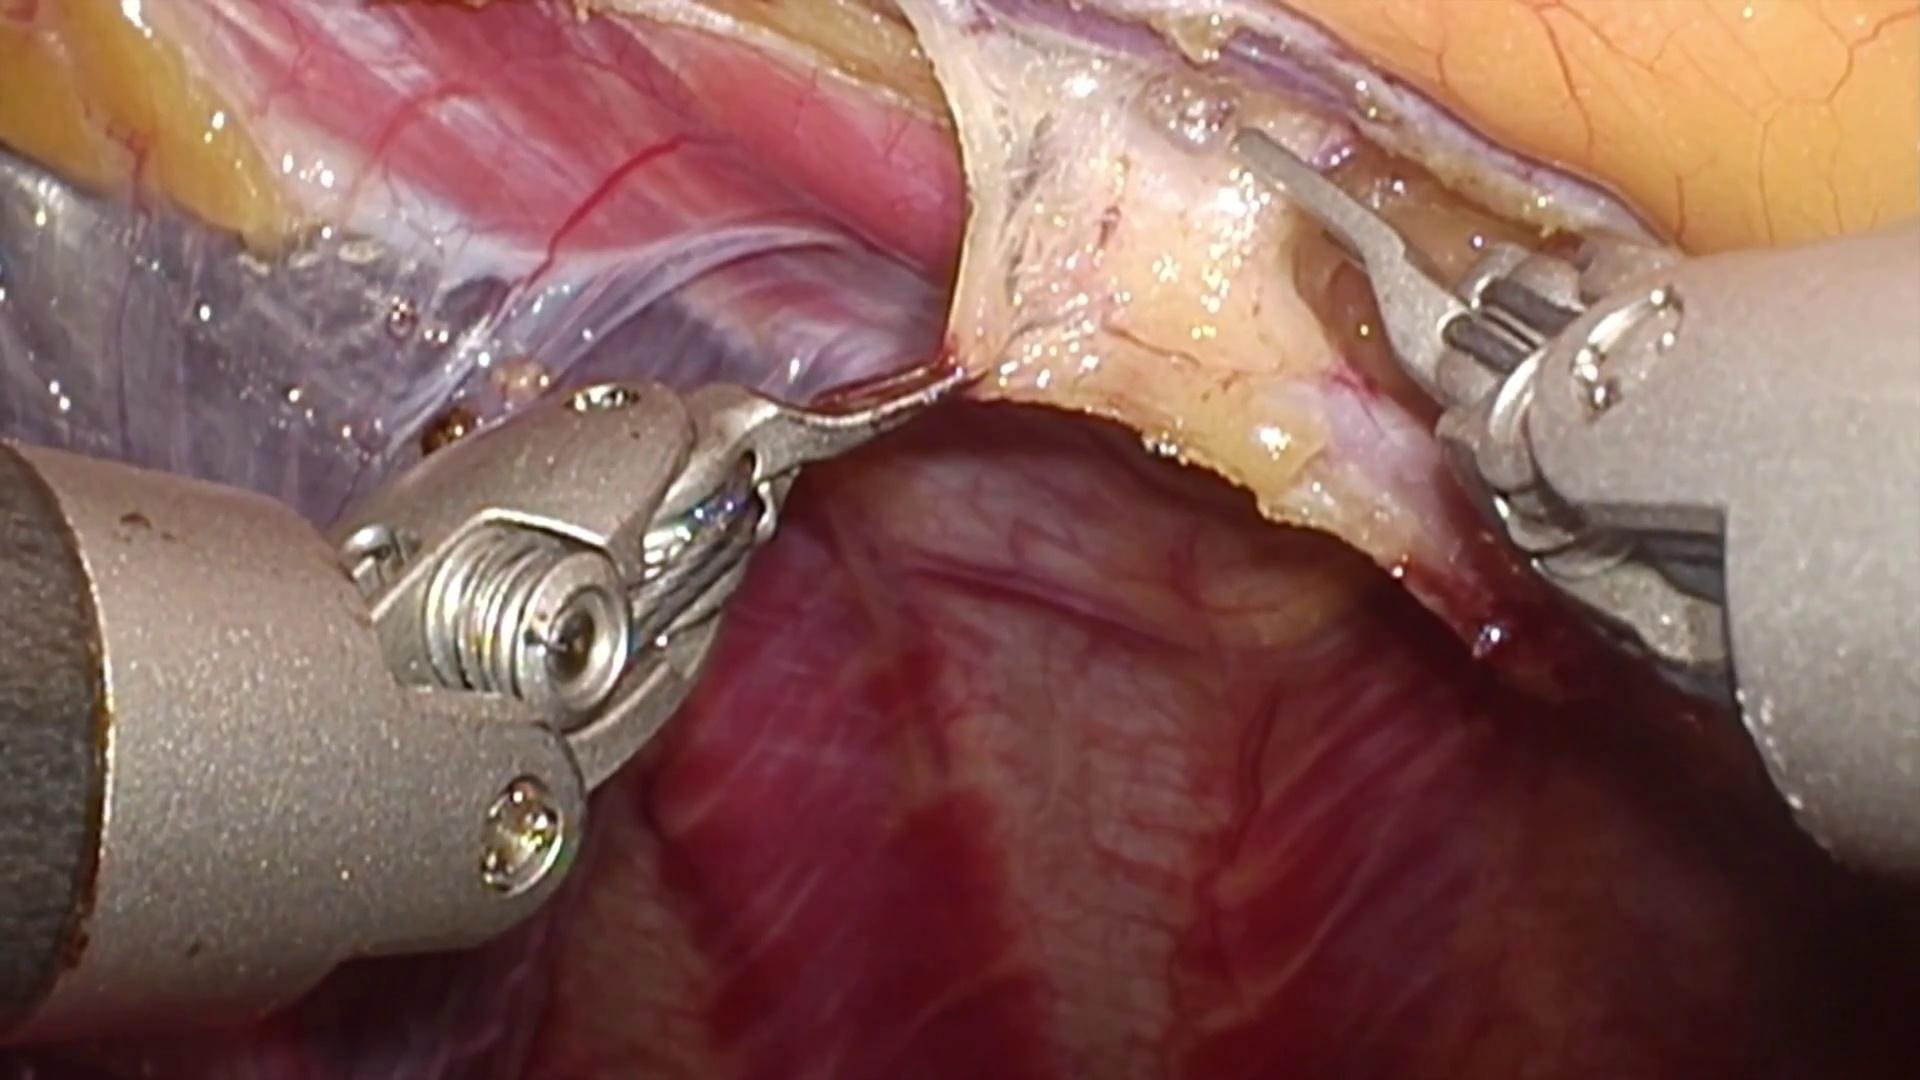Debakey: (696, 352, 967, 514)
clipper: (1224, 131, 1713, 632)
